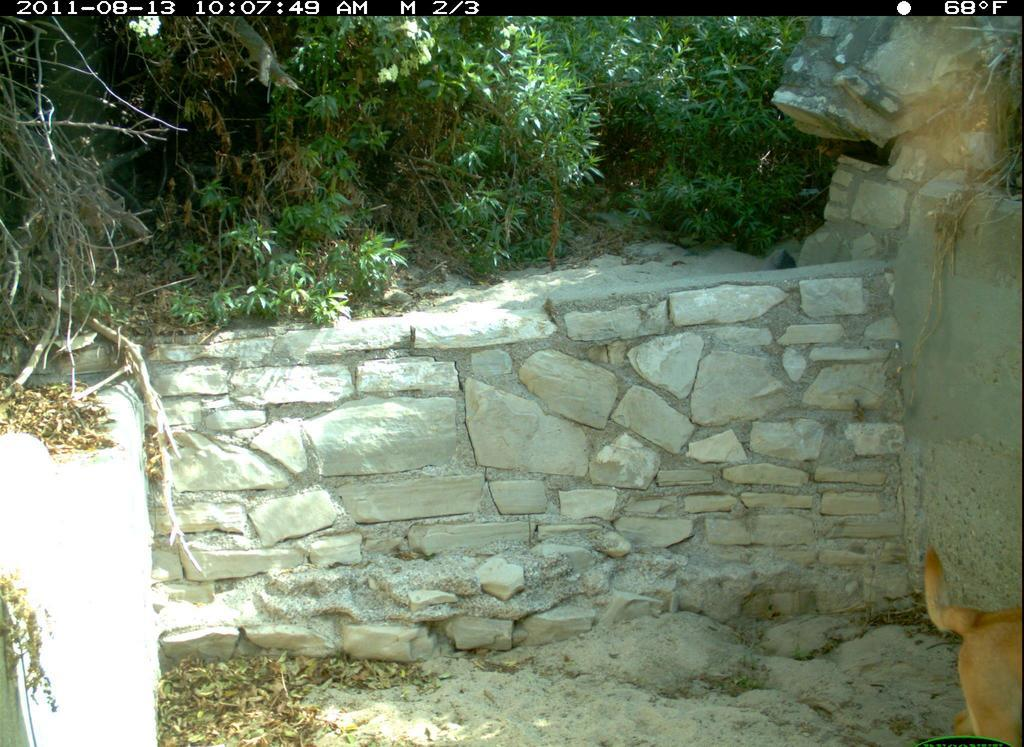dog: (903, 538, 1017, 737)
